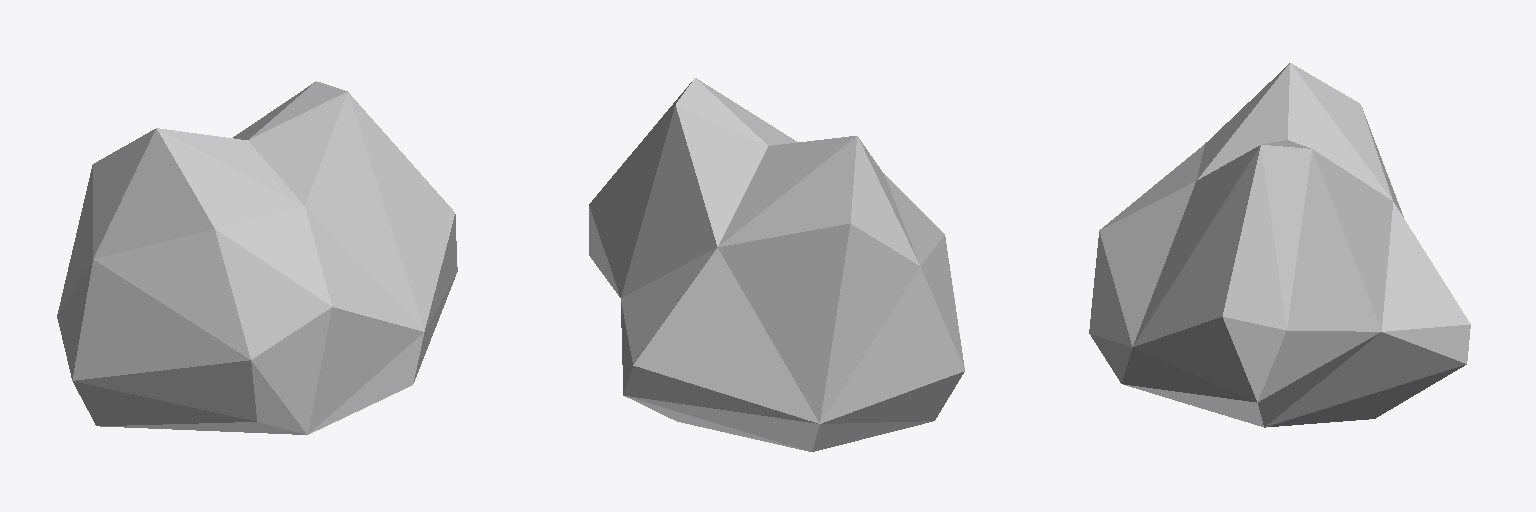
The model's file is rock_1.obj.
3 views of the same model, side by side, from view 1: azimuth 30°, elevation 25°; view 2: azimuth 150°, elevation 25°; view 3: azimuth 270°, elevation 25° (orthographic).
Visible parts, largest first — view 1: rock_1; view 2: rock_1; view 3: rock_1.
Boxes of the visible parts, box(x1,y1,x2,y2) form: rock_1: box(57, 81, 457, 434); rock_1: box(589, 78, 964, 451); rock_1: box(1089, 63, 1470, 427).
Bounding box in the file's own units: 0.866 × 0.658 × 0.752.